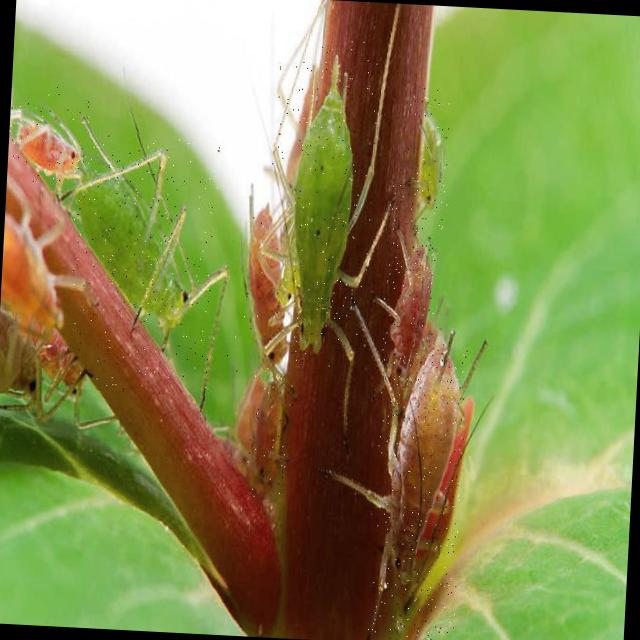aphid: (66, 131, 220, 396), (264, 38, 381, 368), (366, 341, 469, 640), (226, 157, 300, 375), (379, 182, 442, 392), (7, 84, 92, 185), (403, 86, 453, 230), (247, 374, 294, 498)
